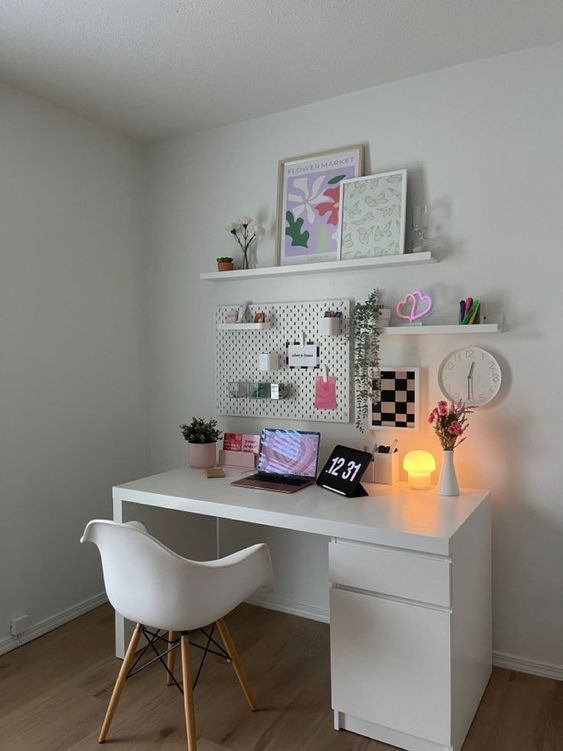not a gesture sign: (0, 0, 562, 750), (114, 487, 489, 750), (0, 613, 185, 750)
